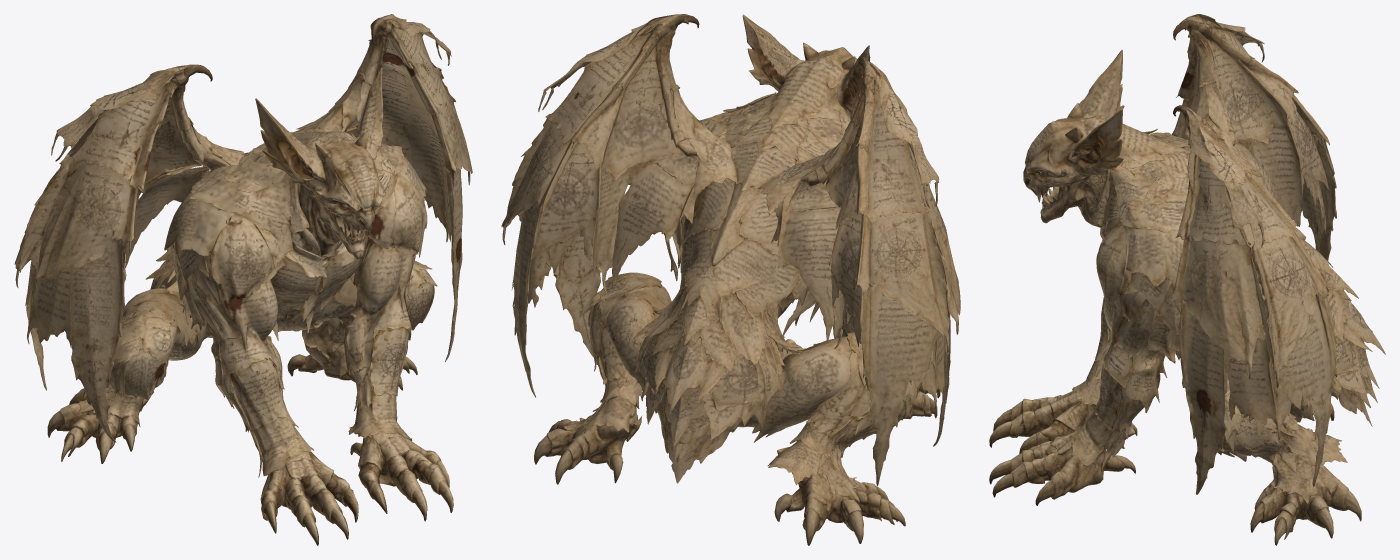
File: gargoyle.glb
3 views of the same model, side by side, from view 1: azimuth 30°, elevation 25°; view 2: azimuth 150°, elevation 25°; view 3: azimuth 270°, elevation 25° (orthographic). The views are drawn at different scales.
Size of the model in its own units: 1.88 by 1.68 by 1.49.
Materials: 1 (1 with a texture image).
